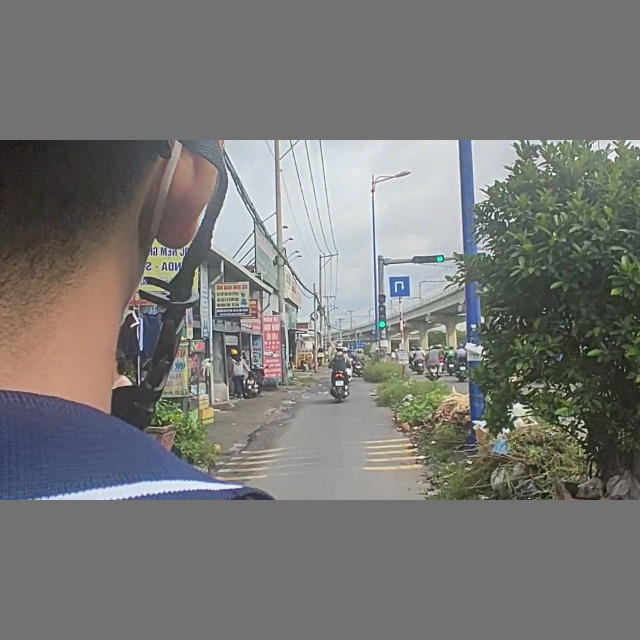I.409: (388, 275, 411, 299)
